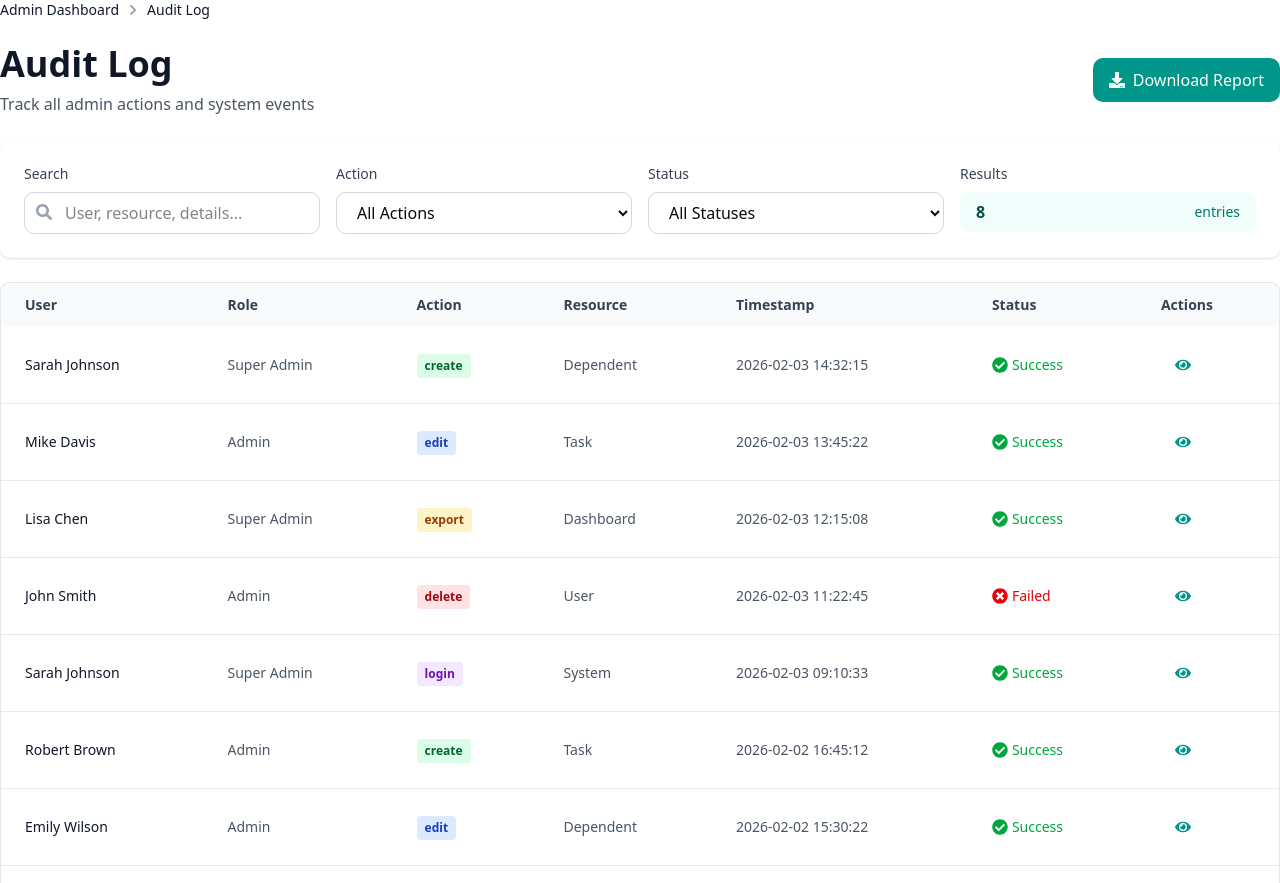
Test: AdminAuditLog Component › Detail Modal › displays audit log details in modal
The image size is (1280, 883).
Click the button named "view details" at (1183, 365), box 1161,343 -> 1205,387
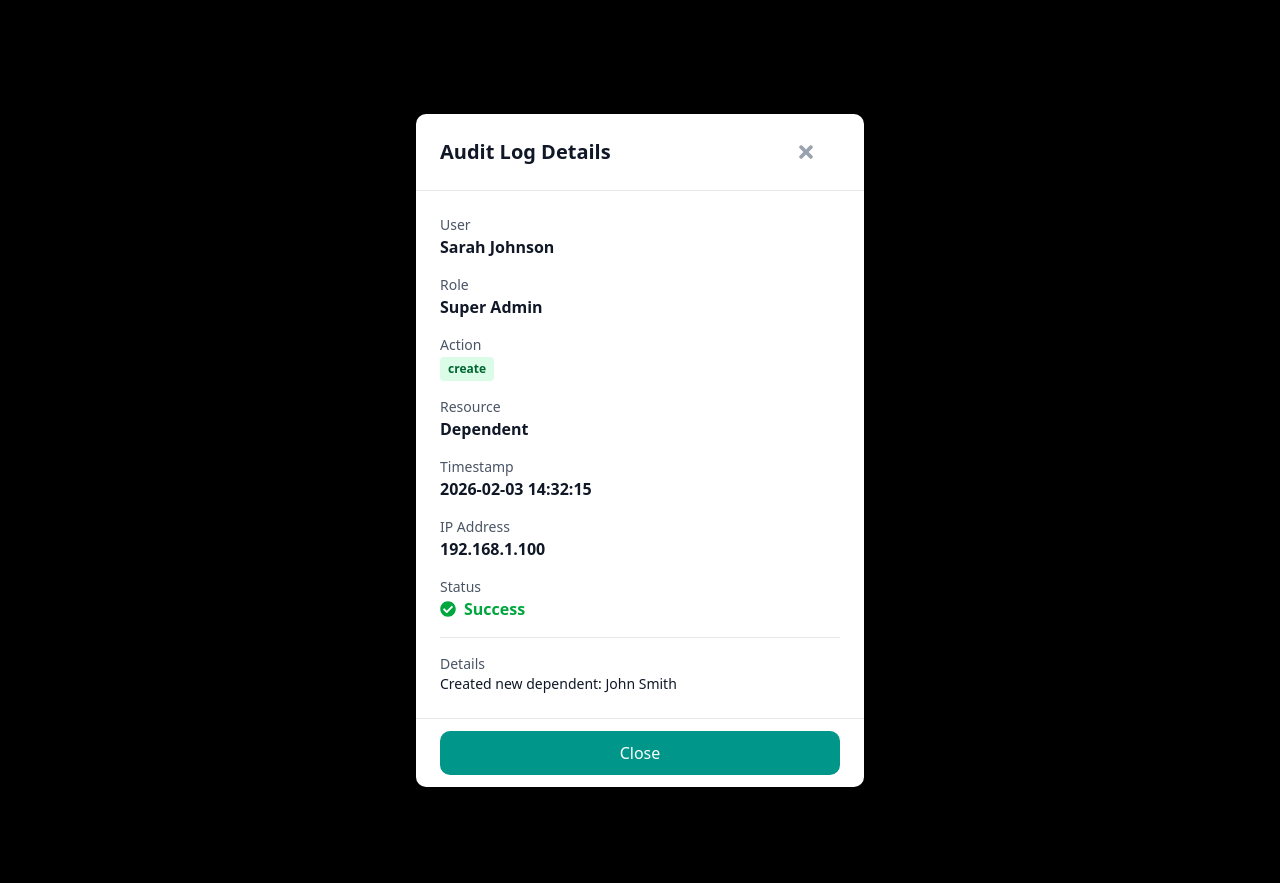
Expected: the heading "Audit Log Details" is shown, 440,138 -> 611,166
